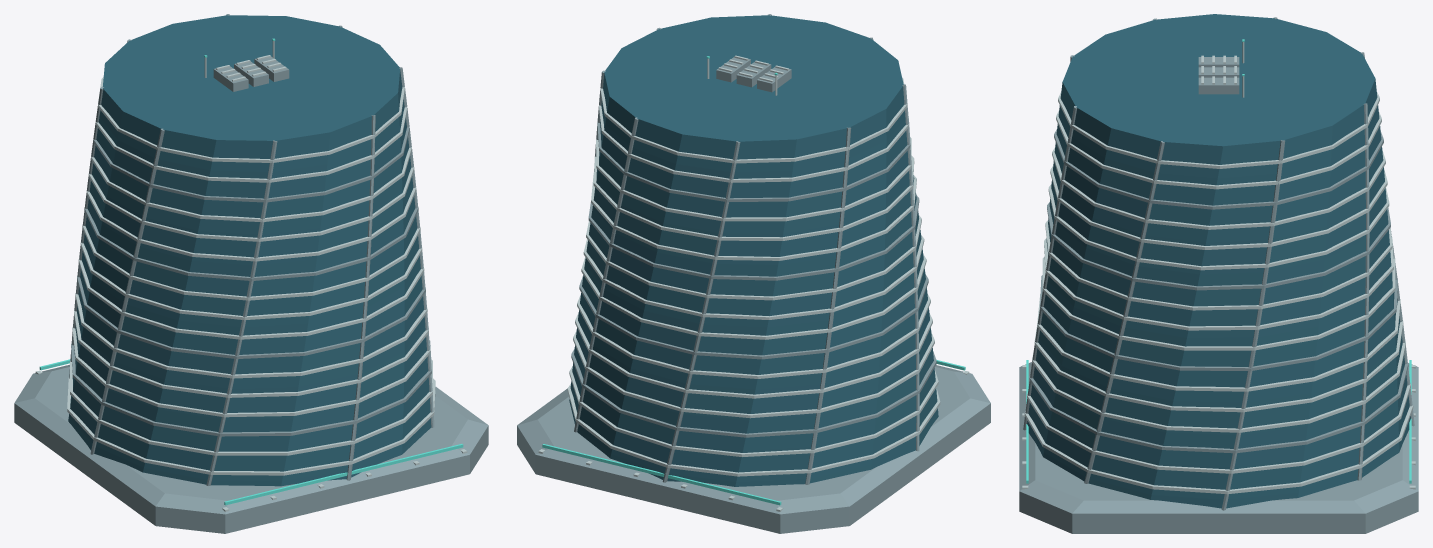
The model's file is Helix.fbx.
The picture shows the model from 3 angles, left to right: view 1: azimuth 30°, elevation 25°; view 2: azimuth 150°, elevation 25°; view 3: azimuth 270°, elevation 25°; orthographic projection. The views are drawn at different scales.
Visible parts, largest first — view 1: Far FutureGlass, Near FutureShell, Near FutureMetal, Near FutureNeon; view 2: Far FutureGlass, Near FutureShell, Near FutureMetal, Near FutureNeon; view 3: Far FutureGlass, Near FutureShell, Near FutureMetal, Near FutureNeon.
Boxes of the visible parts, x1,y1,x2,y2 form: Far FutureGlass: (68, 15, 431, 486); Near FutureShell: (14, 14, 488, 533); Near FutureMetal: (35, 41, 467, 511); Near FutureNeon: (39, 38, 463, 505); Far FutureGlass: (569, 15, 938, 486); Near FutureShell: (517, 14, 990, 533); Near FutureMetal: (538, 55, 969, 511); Near FutureNeon: (542, 56, 965, 505); Far FutureGlass: (1027, 14, 1410, 508); Near FutureShell: (1019, 17, 1418, 533); Near FutureMetal: (1022, 42, 1415, 494); Near FutureNeon: (1026, 39, 1411, 483).
Size of what is drawn, in the model's own units: 98 by 106 by 98.
